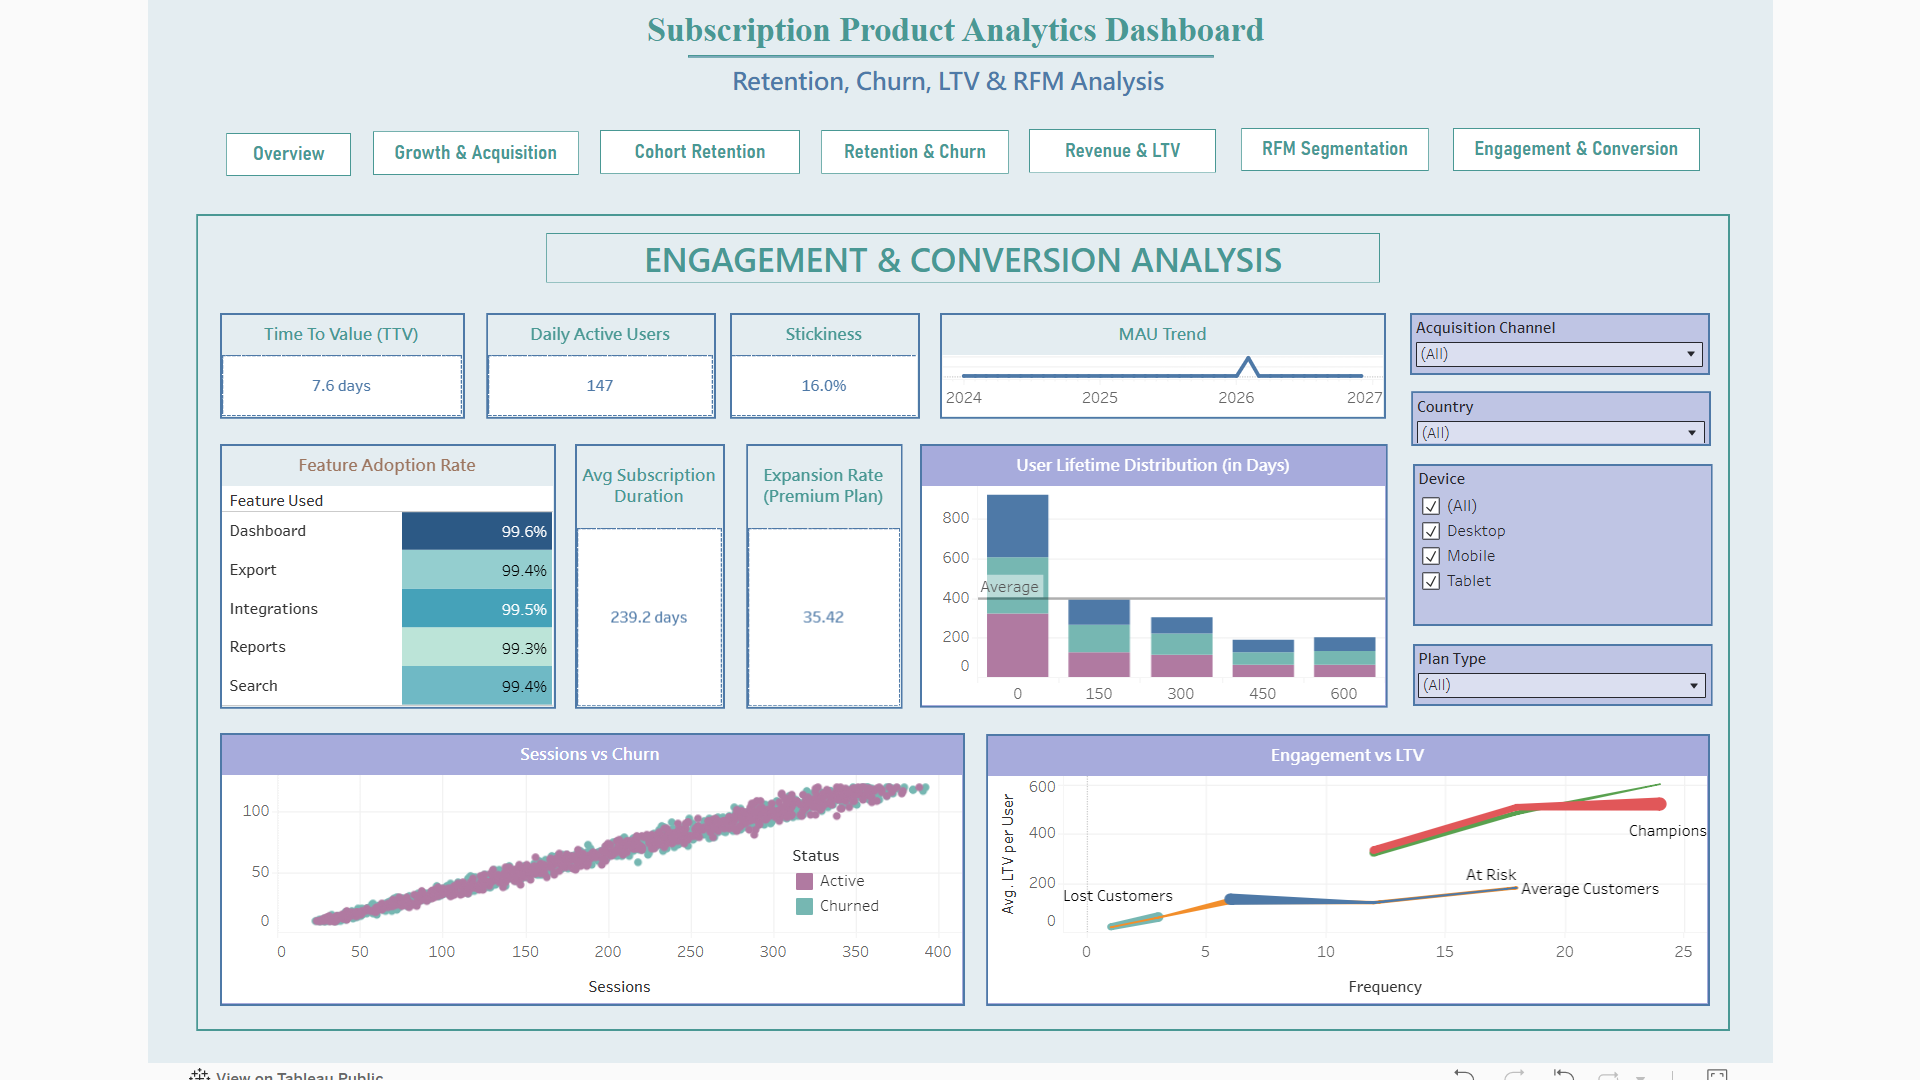

This screenshot's page, from the dashboard's own definition file:
{"tool":"tableau","page":{"name":"Engagement & Conversion","canvas":[1300,850],"ordinal":1},"visuals":[{"type":"blank","box":[432,44,421,2]},{"type":"text","box":[347,50,587,28]},{"type":"blank","box":[56,99,1191,45]},{"type":"dashboard-object","box":[875,102,150,35]},{"type":"dashboard-object","box":[1044,102,198,35]},{"type":"dashboard-object","box":[705,103,150,35]},{"type":"dashboard-object","box":[362,104,160,35]},{"type":"dashboard-object","box":[539,104,150,35]},{"type":"dashboard-object","box":[180,105,165,35]},{"type":"dashboard-object","box":[63,106,100,35]},{"type":"blank","box":[39,171,1227,654]},{"type":"text","box":[319,186,667,40]},{"type":"worksheet","title":"Time To Value (TTV)","mark":"Automatic","box":[58,250,196,85]},{"type":"worksheet","title":"DAU","mark":"Automatic","box":[271,250,184,85]},{"type":"worksheet","title":"Stickiness","mark":"Automatic","box":[466,250,152,85]},{"type":"worksheet","title":"MAU Trend","mark":"Automatic","rows":["Calculation_1112952098734313520"],"cols":["Calculation_1112952098219200528"],"box":[634,250,357,85]},{"type":"filter","title":"Avg Subscription Duration Days","param":"[federated.1vvcbkb1517lao19svhhh0a2soji].[none:Acquisition_Channel:nk]","box":[1010,250,240,50]},{"type":"filter","title":"Avg Subscription Duration Days","param":"[federated.1vvcbkb1517lao19svhhh0a2soji].[none:Country:nk]","box":[1011,313,240,44]},{"type":"worksheet","title":"Feature Adoption Rate","mark":"Square","rows":["Feature_Used"],"box":[58,355,269,212]},{"type":"worksheet","title":"Avg Subscription Duration Days","mark":"Automatic","box":[342,355,120,212]},{"type":"worksheet","title":"Expansion Rate","mark":"Automatic","box":[479,355,125,212]},{"type":"worksheet","title":"User Lifetime Distribution","mark":"Bar","rows":["Calculation_1112952098143047680"],"cols":["User Lifetime (Days) (bin)"],"box":[618,355,374,211]},{"type":"filter","title":"Avg Subscription Duration Days","param":"[federated.1vvcbkb1517lao19svhhh0a2soji].[none:Device:nk]","box":[1012,371,240,130]},{"type":"filter","title":"Avg Subscription Duration Days","param":"[federated.1vvcbkb1517lao19svhhh0a2soji].[none:Plan_Type:nk]","box":[1012,515,240,50]},{"type":"worksheet","title":"Sessions vs Churn ","mark":"Shape","rows":["User_ID"],"cols":["Sessions"],"box":[58,586,596,219]},{"type":"worksheet","title":"Engagement vs LTV","mark":"Automatic","rows":["Calculation_1112952098174984198"],"cols":["Calculation_1112952098493493277"],"box":[671,587,579,218]},{"type":"legend","title":"Sessions vs Churn ","param":"[federated.1vvcbkb1517lao19svhhh0a2soji].[none:Status:nk]","box":[516,676,112,62]}]}

Visuals, with their boxes in screenshot pixels (x1, y1, x2, y2):
blank: 681, 45, 1209, 48
text: 575, 53, 1310, 88
blank: 210, 114, 1703, 170
dashboard-object: 1236, 118, 1424, 162
dashboard-object: 1448, 118, 1696, 162
dashboard-object: 1023, 119, 1211, 163
dashboard-object: 594, 120, 794, 164
dashboard-object: 815, 120, 1003, 164
dashboard-object: 366, 122, 572, 165
dashboard-object: 219, 123, 344, 167
blank: 189, 204, 1726, 1024
text: 540, 223, 1375, 273
"Time To Value (TTV)" worksheet: 213, 303, 458, 410
"DAU" worksheet: 480, 303, 710, 410
"Stickiness" worksheet: 724, 303, 914, 410
"MAU Trend" worksheet: 934, 303, 1382, 410
"Avg Subscription Duration Days" filter: 1406, 303, 1706, 366
"Avg Subscription Duration Days" filter: 1407, 382, 1708, 437
"Feature Adoption Rate" worksheet (Square marks): 213, 435, 550, 700
"Avg Subscription Duration Days" worksheet: 569, 435, 719, 700
"Expansion Rate" worksheet: 740, 435, 897, 700
"User Lifetime Distribution" worksheet (Bar marks): 914, 435, 1383, 699
"Avg Subscription Duration Days" filter: 1408, 455, 1709, 618
"Avg Subscription Duration Days" filter: 1408, 635, 1709, 698
"Sessions vs Churn " worksheet (Shape marks): 213, 724, 959, 999
"Engagement vs LTV" worksheet: 981, 726, 1706, 999
"Sessions vs Churn " legend: 787, 837, 927, 915
